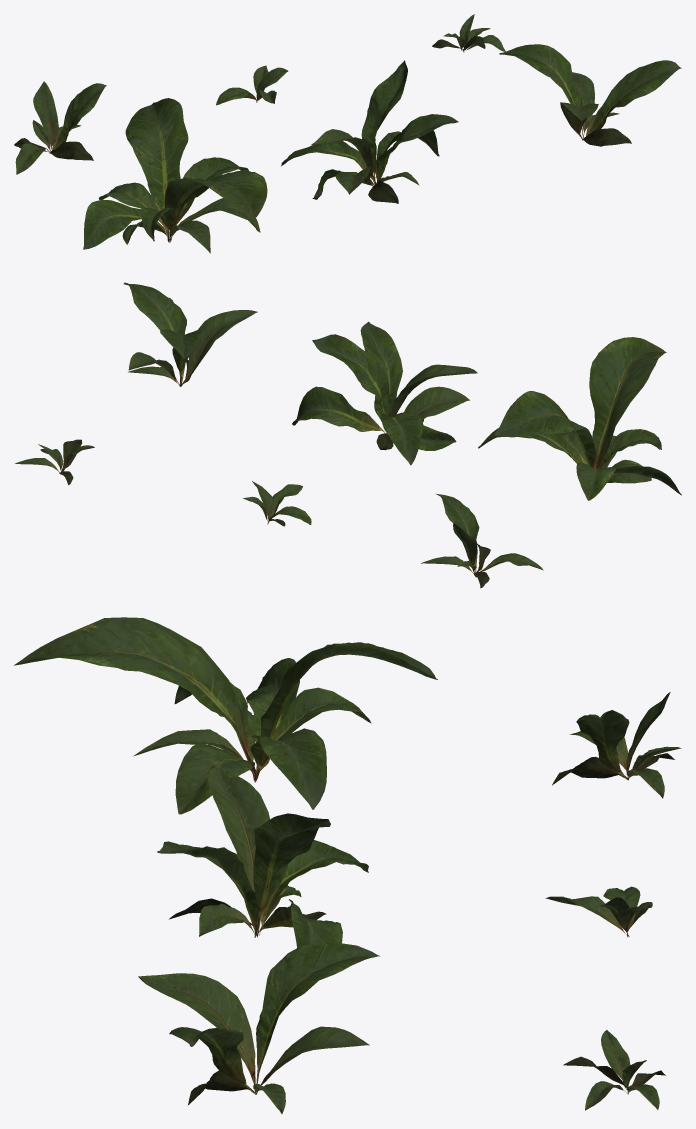
File: anthurium.glb
3 views of the same model, one above another, from view 1: azimuth 30°, elevation 25°; view 2: azimuth 150°, elevation 25°; view 3: azimuth 270°, elevation 25° (orthographic). The views are drawn at different scales.
Parts seen in each view (by area): view 1: anthurium_botany_01_a; view 2: anthurium_botany_01_a; view 3: anthurium_botany_01_a.
Boxes of the visible parts, left/top/right/bottom form: anthurium_botany_01_a: left=14, top=14, right=681, bottom=253; anthurium_botany_01_a: left=15, top=282, right=681, bottom=588; anthurium_botany_01_a: left=14, top=617, right=681, bottom=1113.
Bounding box in the file's own units: 2.8 × 0.4994 × 1.8.
1 material, 1 textured.
